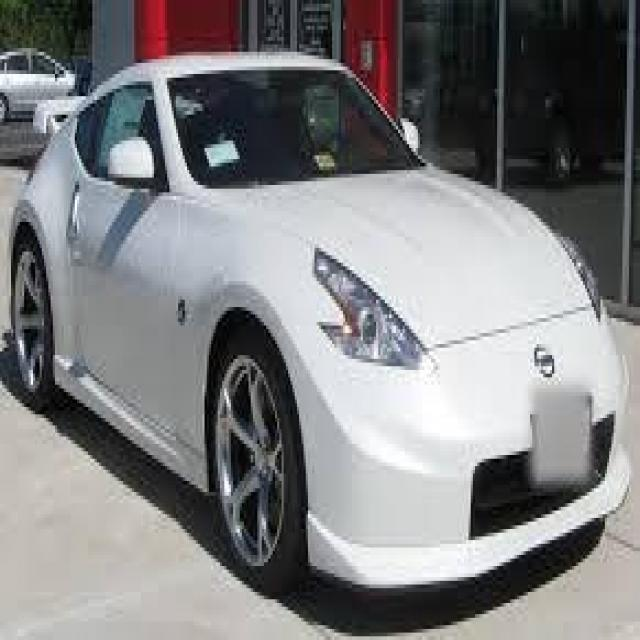front_bumper: (288, 298, 631, 589)
front_glass: (167, 71, 431, 188)
front_left_light: (563, 234, 601, 317)
front_right_door: (65, 70, 180, 440)
front_right_light: (313, 245, 438, 374)
hood: (215, 167, 595, 346)
left_mirror: (400, 116, 418, 148)
right_mirror: (110, 135, 158, 192)
wheel: (210, 342, 296, 590), (10, 240, 48, 406)
